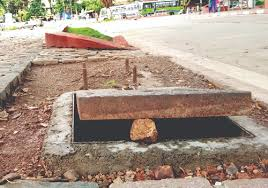Manhole-Open: (61, 82, 257, 161)
